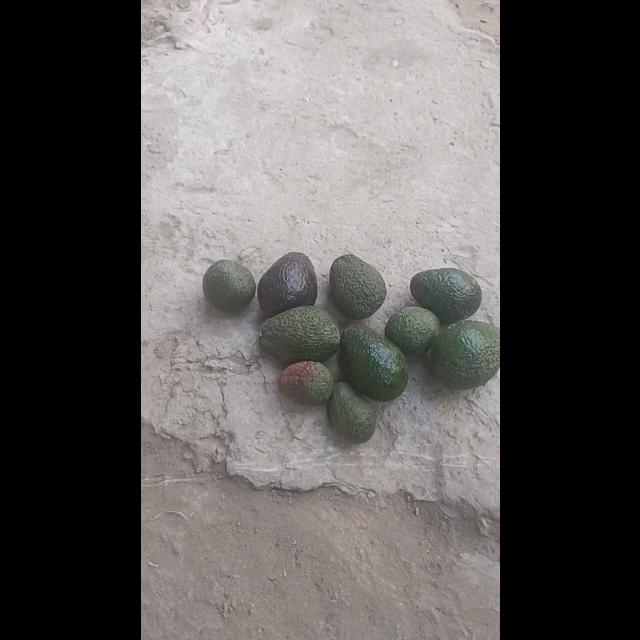Primera: (338, 326, 408, 400), (428, 320, 498, 388), (258, 306, 340, 362), (410, 266, 482, 322), (256, 252, 318, 316), (328, 254, 386, 318)
Segunda: (384, 306, 440, 358), (200, 260, 254, 312)
Tercera: (326, 381, 374, 442), (278, 361, 334, 407)
